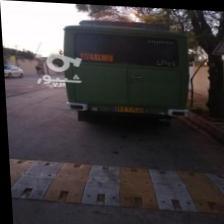plate: (112, 104, 142, 110)
